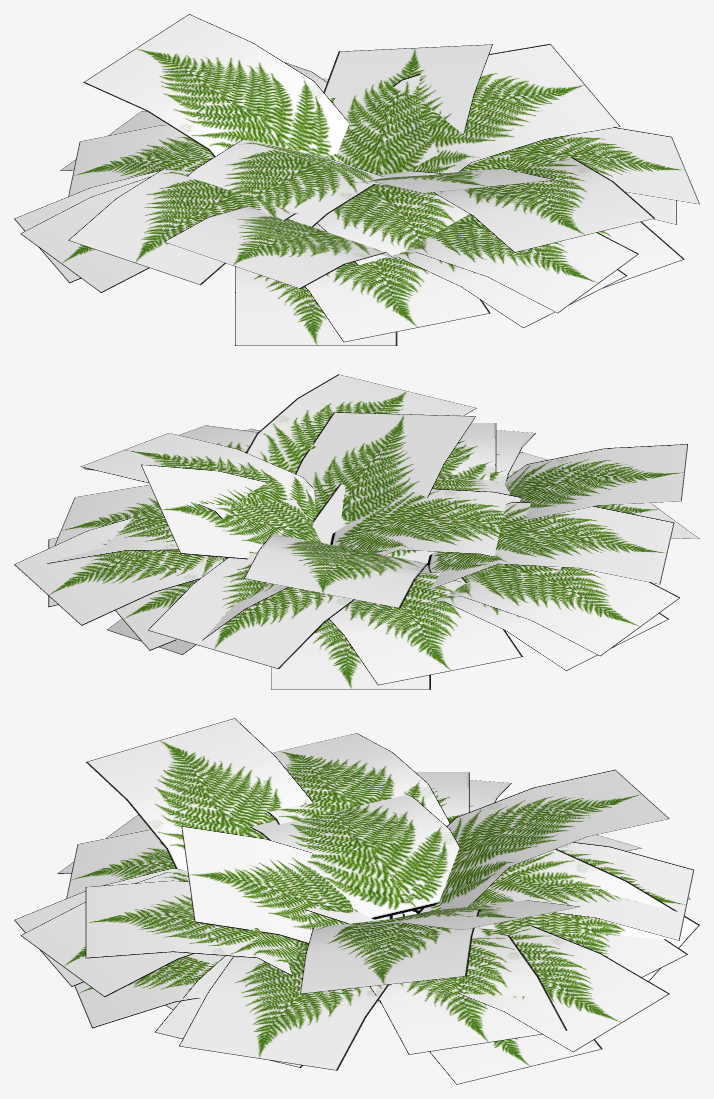
File: Fougere3 1.FBX
The picture shows the model from 3 angles, top to bottom: view 1: azimuth 30°, elevation 25°; view 2: azimuth 150°, elevation 25°; view 3: azimuth 270°, elevation 25°; orthographic projection. The views are drawn at different scales.
Visible parts, largest first — view 1: Plane470; view 2: Plane470; view 3: Plane470.
Part boxes in pixels (box(x1,y1,x2,y2)): Plane470: box(14, 14, 699, 345); Plane470: box(14, 374, 699, 689); Plane470: box(14, 718, 699, 1084).
Bounding box in the file's own units: 369 × 78.13 × 352.
